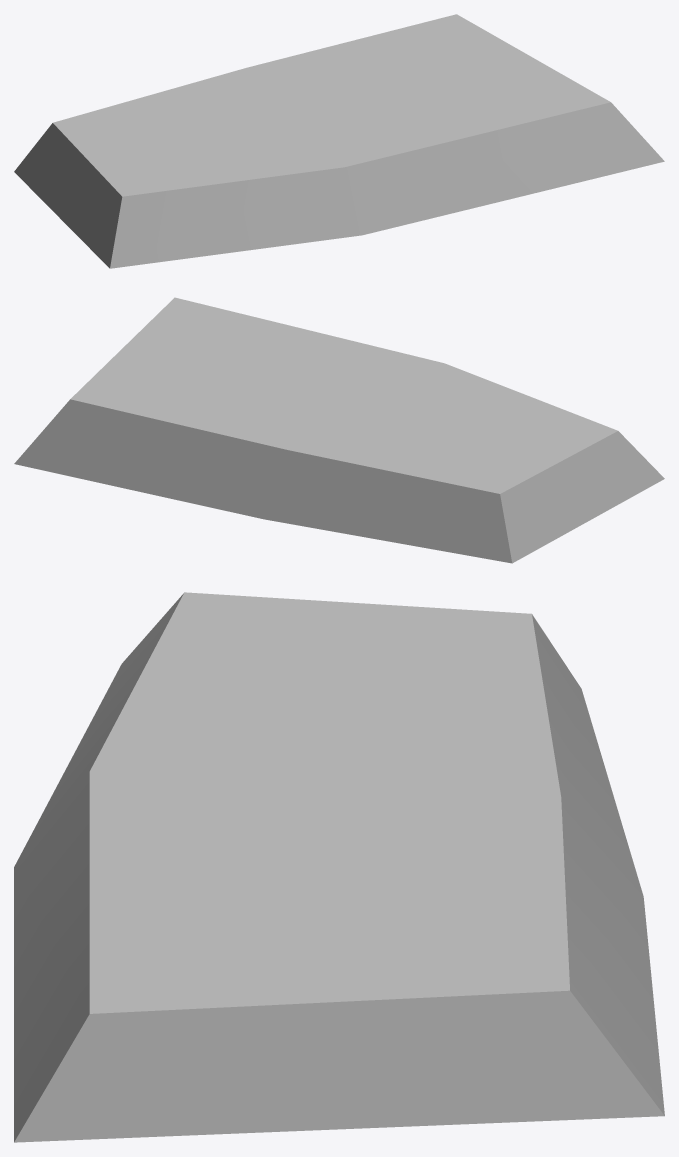
File: stone_03.FBX
3 renders of one model, top to bottom at view 1: azimuth 30°, elevation 25°; view 2: azimuth 150°, elevation 25°; view 3: azimuth 270°, elevation 25°, orthographic. The views are drawn at different scales.
Visible parts, largest first — view 1: stone_03; view 2: stone_03; view 3: stone_03.
Boxes of the visible parts, <box> form: stone_03: <box>14,14,664,268</box>; stone_03: <box>14,297,664,563</box>; stone_03: <box>14,592,664,1142</box>.
Size of the model in its own units: 0.6086 by 0.0582 by 0.3497.
1 material, 1 textured.
